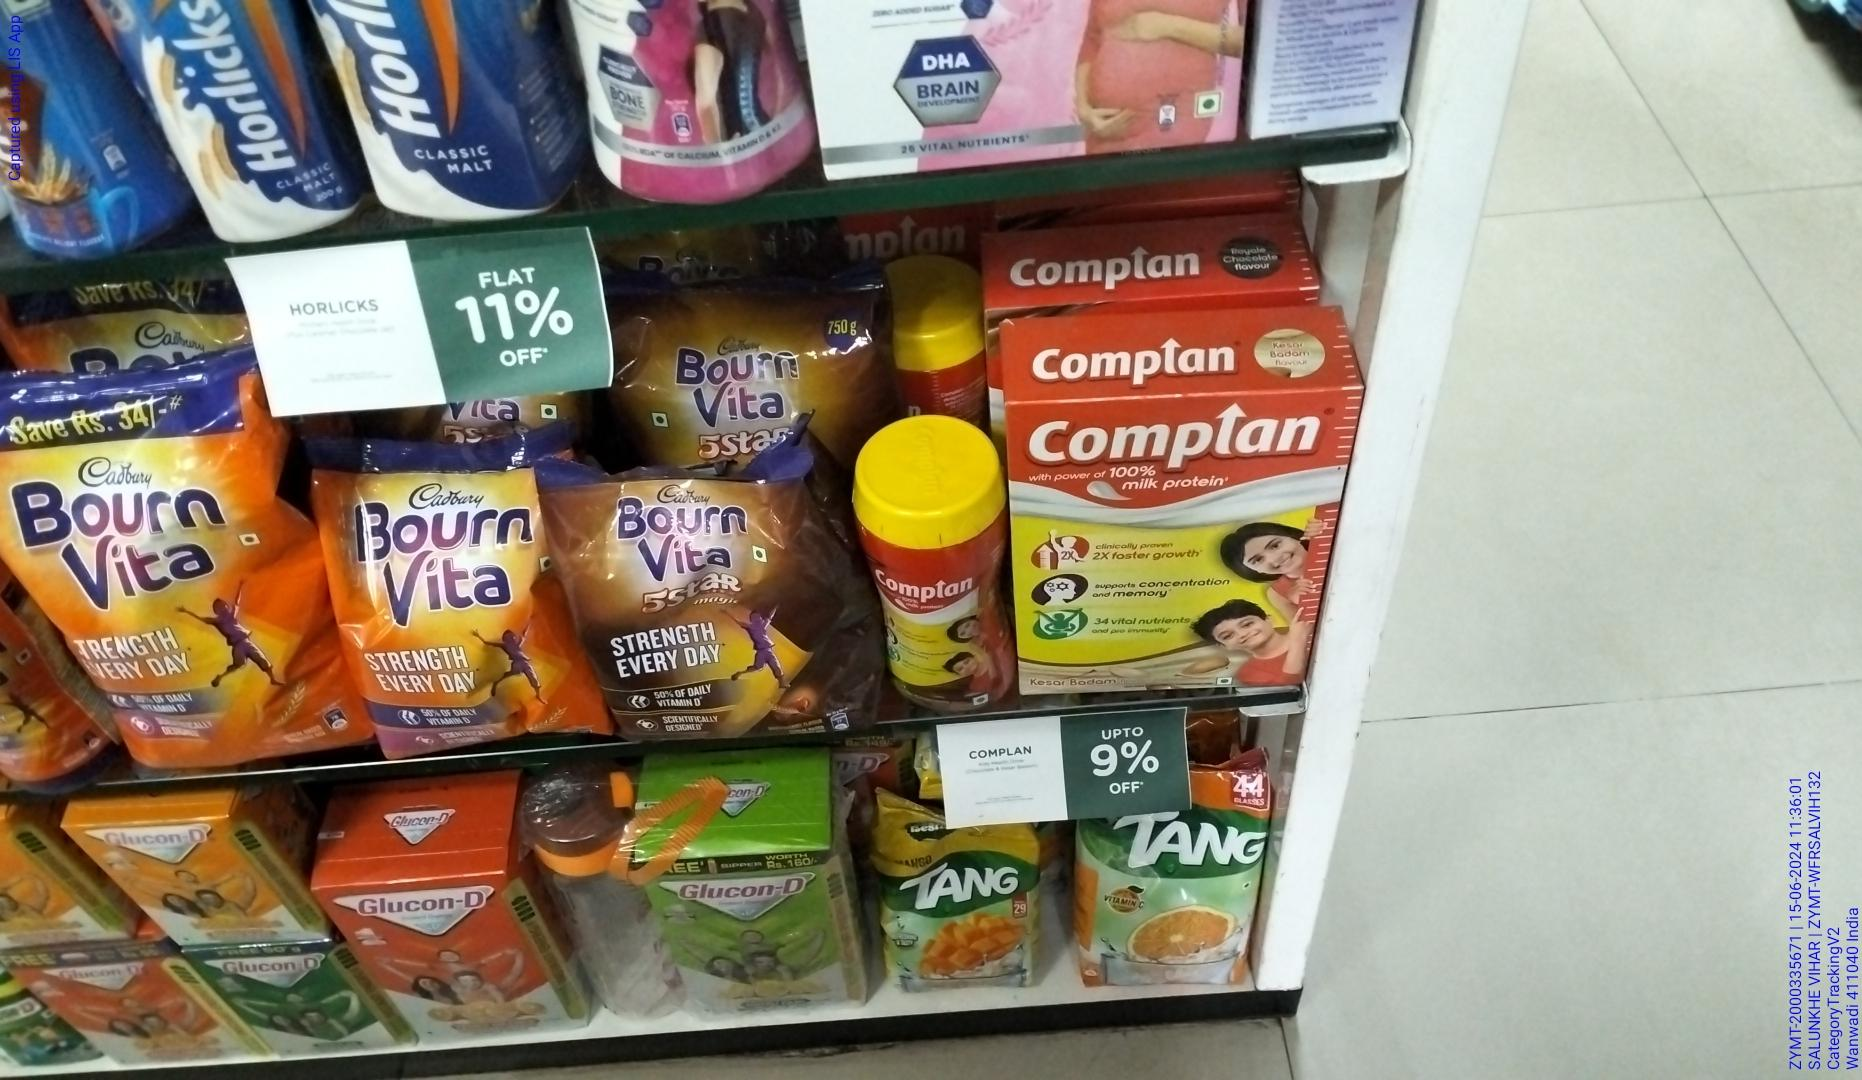BOURN_VITA_500_G_POUCH: (323, 445, 560, 752)
BOURN_VITA_FIVE_STAR_MAGIC_500_G_POUCH: (587, 464, 851, 735)
COMPLAN_CHOCOLATE_500_GMS_JAR: (873, 465, 1007, 708)
COMPLAN_KESAR_BADAM_500_GMS_PACK: (1016, 384, 1317, 696)
